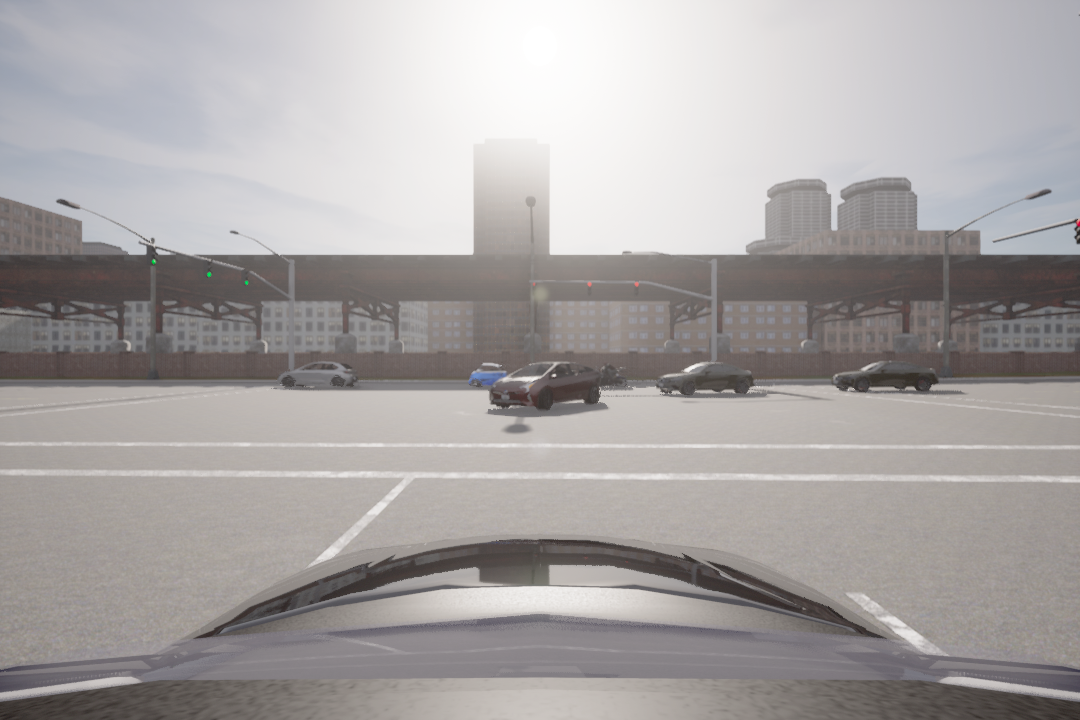TrafficLight: (238, 267, 252, 292), (145, 244, 158, 269), (201, 258, 214, 282), (585, 278, 593, 301), (631, 279, 641, 297)
